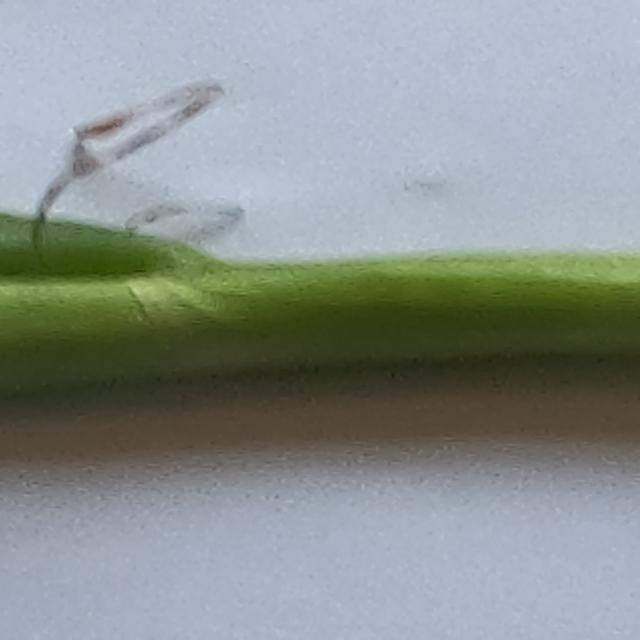green_onion: (0, 214, 640, 427)
